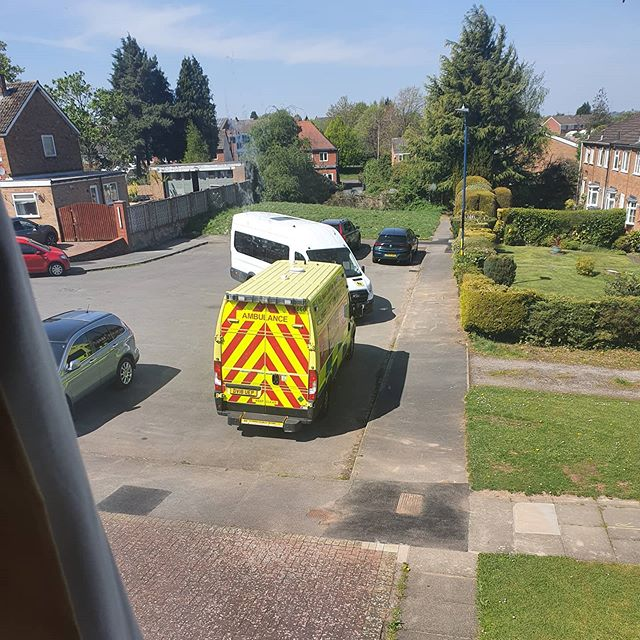ambulance: (222, 261, 344, 415)
building: (1, 84, 154, 232), (562, 106, 640, 214), (297, 109, 382, 184)
car: (45, 304, 147, 406), (11, 223, 69, 272), (375, 226, 421, 271)
grass: (472, 387, 639, 491), (492, 552, 640, 640)
tree: (400, 16, 563, 204), (96, 47, 189, 155), (170, 59, 247, 169)
van: (234, 209, 369, 317)
